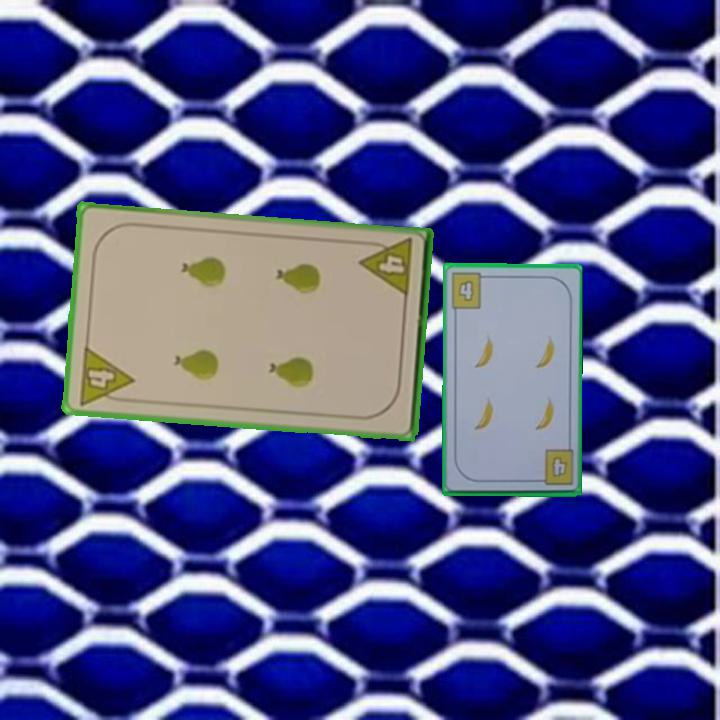4b: (447, 269, 491, 311), (532, 447, 576, 488)
4p: (74, 343, 136, 408), (357, 235, 416, 300)
